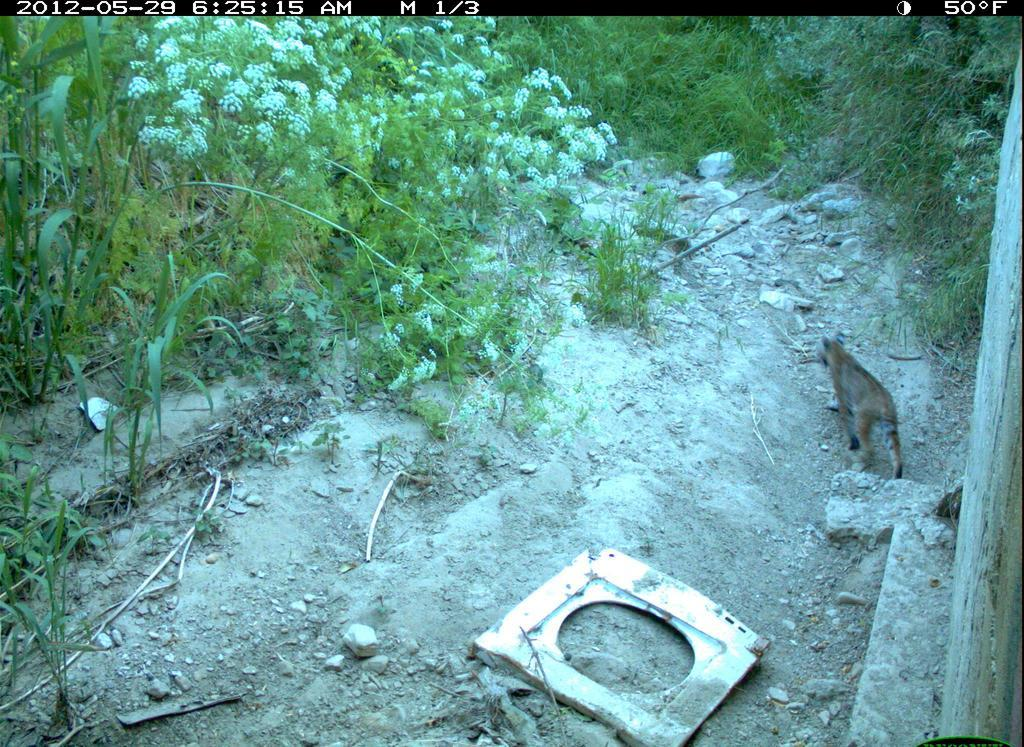bobcat: (803, 333, 923, 486)
